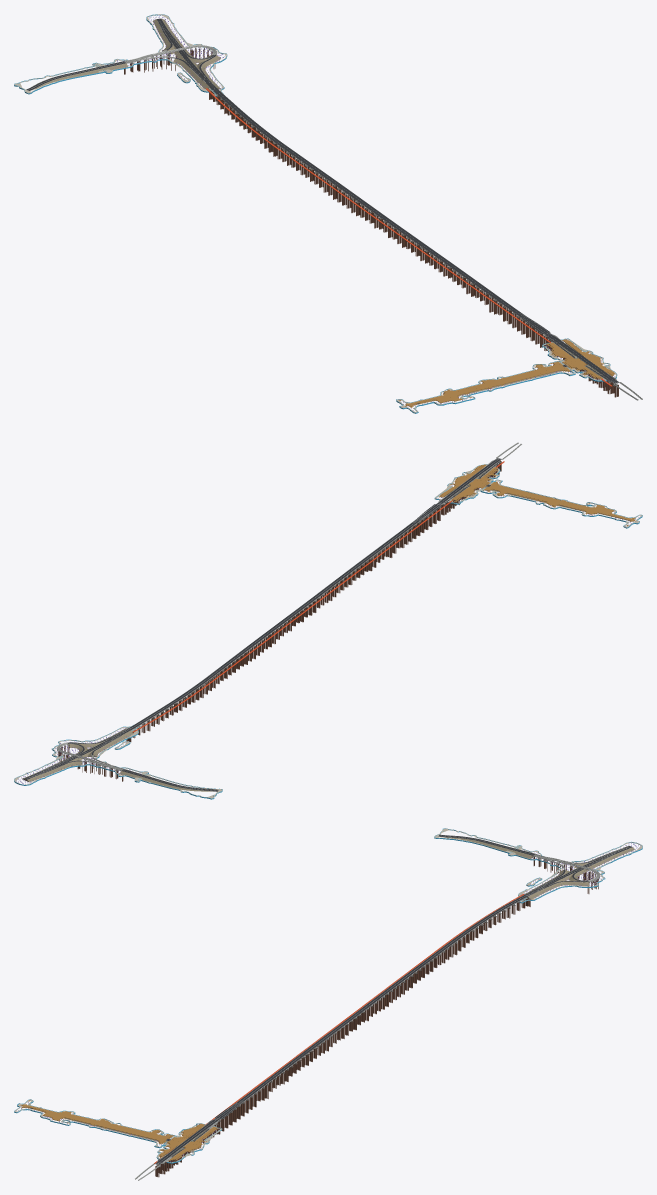
3 renders of one model, top to bottom at view 1: azimuth 30°, elevation 25°; view 2: azimuth 150°, elevation 25°; view 3: azimuth 330°, elevation 25°, orthographic. The views are drawn at different scales.
Visible parts, largest first — view 1: x_pile, asph, x_preload, x_detour, x_wall, slope, parapet, x_trestle, girder; view 2: x_pile, asph, x_preload, x_detour, x_wall, slope, parapet, x_trestle, rail, girder; view 3: x_pile, asph, x_preload, x_detour, x_wall, slope, parapet, x_trestle, rail, girder.
Boxes of the visible parts, box(x1,y1,x2,y2) form: x_pile: box(124, 49, 618, 397); asph: box(26, 18, 618, 404); x_preload: box(399, 339, 614, 407); x_detour: box(14, 14, 616, 412); x_wall: box(14, 14, 617, 413); slope: box(31, 18, 602, 404); parapet: box(124, 45, 642, 399); x_trestle: box(205, 88, 612, 386); girder: box(124, 45, 642, 400); x_pile: box(58, 460, 501, 781); asph: box(24, 458, 501, 791); x_preload: box(439, 464, 635, 525); x_detour: box(14, 464, 642, 798); x_wall: box(14, 464, 642, 799); slope: box(22, 469, 627, 791); parapet: box(57, 442, 521, 770); x_trestle: box(132, 461, 504, 732); rail: box(24, 469, 629, 791); girder: box(56, 443, 521, 770); x_pile: box(155, 857, 598, 1177); asph: box(30, 835, 631, 1164); x_preload: box(20, 1100, 217, 1160); x_detour: box(14, 828, 642, 1162); x_wall: box(14, 828, 642, 1163); slope: box(34, 836, 634, 1159); parapet: box(135, 854, 600, 1180); x_trestle: box(154, 894, 524, 1163); rail: box(30, 834, 632, 1155); girder: box(135, 854, 600, 1180).
Bounding box in the file's own units: 1191 × 92.23 × 4609.
